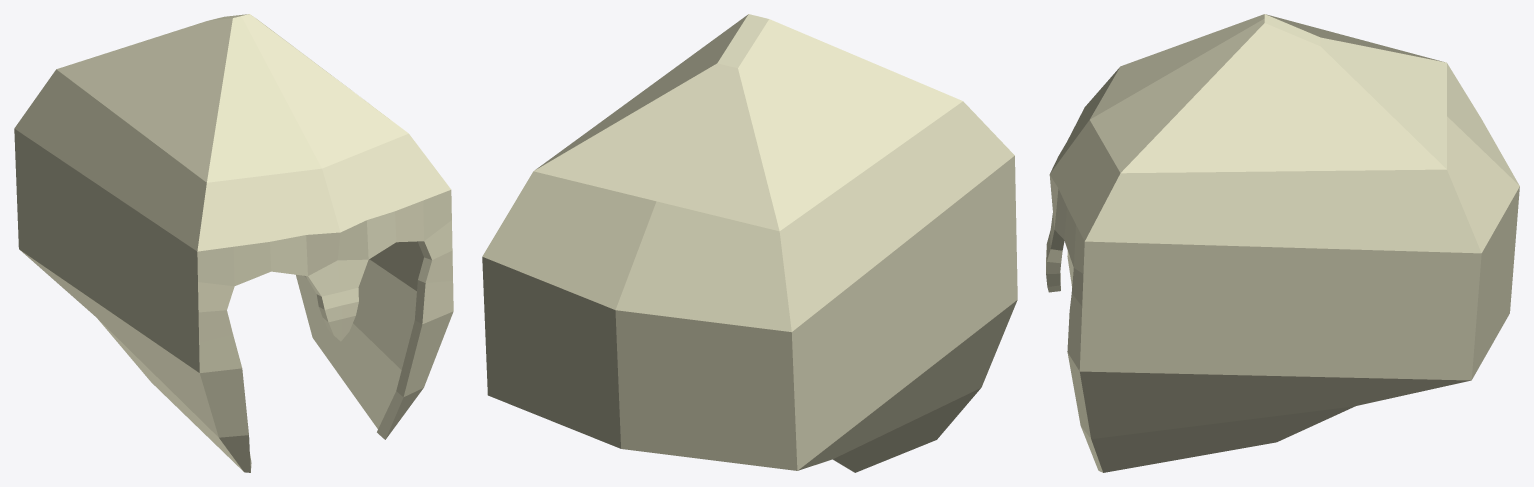
File: HelmetLevel3.fbx
3 views of the same model, side by side, from view 1: azimuth 30°, elevation 25°; view 2: azimuth 150°, elevation 25°; view 3: azimuth 270°, elevation 25° (orthographic). The views are drawn at different scales.
Visible parts, largest first — view 1: Soldier.014; view 2: Soldier.014; view 3: Soldier.014.
Boxes of the visible parts, <box> form: Soldier.014: <box>14,14,453,472</box>; Soldier.014: <box>482,14,1017,472</box>; Soldier.014: <box>1046,14,1519,472</box>.
Bounding box in the file's own units: 26.06 × 37.69 × 38.85.
